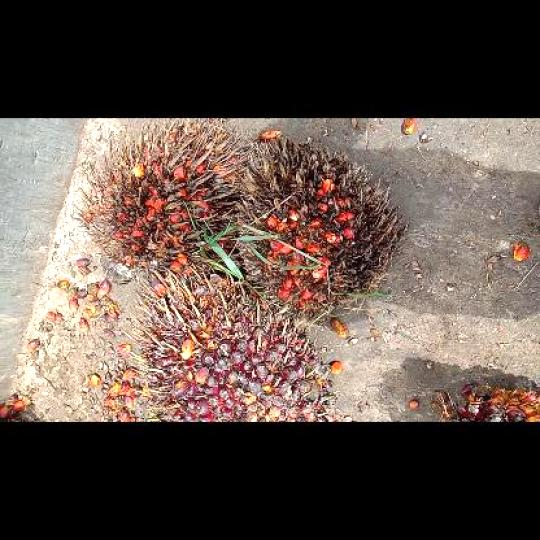masak: (122, 268, 330, 420)
terlalu masak: (230, 134, 408, 323), (70, 121, 242, 284)
